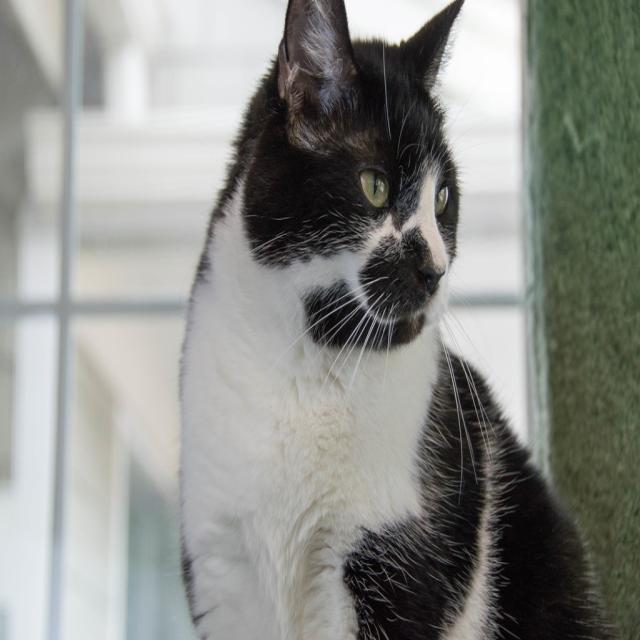Cat: (172, 0, 606, 638)
